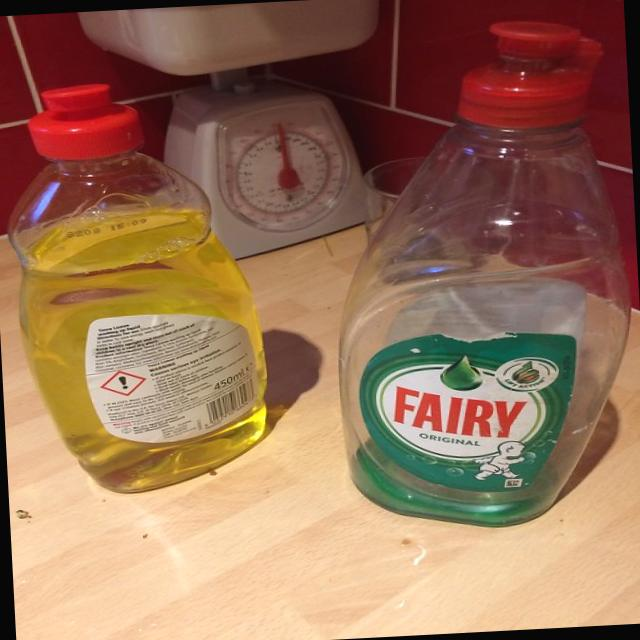Trash: (313, 14, 640, 546), (6, 75, 275, 498)
